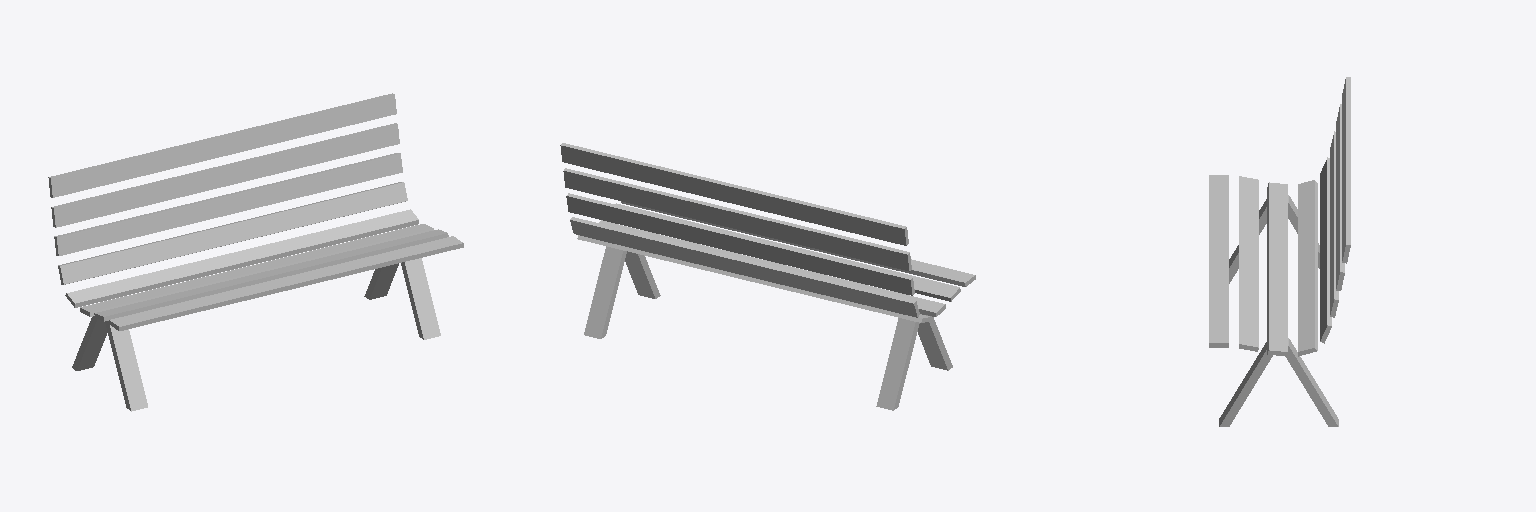
The model's file is Model_ParkBench.obj.
The picture shows the model from 3 angles: view 1: azimuth 30°, elevation 25°; view 2: azimuth 150°, elevation 25°; view 3: azimuth 270°, elevation 25°; orthographic projection.
Visible parts, largest first — view 1: Cube, Cube.001; view 2: Cube, Cube.001; view 3: Cube, Cube.001.
Part boxes in pixels (left/top/right/bottom): Cube: left=48, top=93, right=463, bottom=330; Cube.001: left=72, top=258, right=440, bottom=411; Cube: left=560, top=143, right=975, bottom=322; Cube.001: left=584, top=246, right=952, bottom=410; Cube: left=1209, top=77, right=1350, bottom=356; Cube.001: left=1219, top=195, right=1338, bottom=426.
Size of the model in its own units: 4 by 2.12 by 1.43.